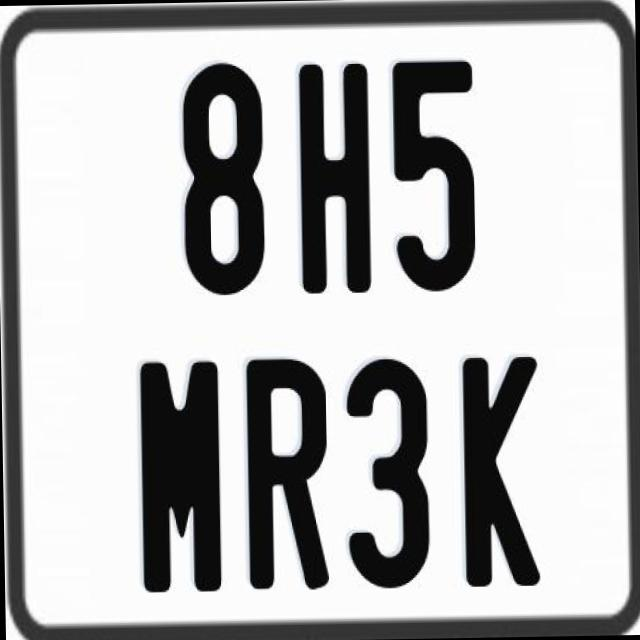3: (343, 354, 430, 590)
5: (388, 58, 480, 300)
8: (176, 62, 266, 303)
H: (296, 62, 371, 294)
K: (460, 356, 544, 590)
M: (135, 359, 222, 595)
R: (242, 355, 328, 588)
